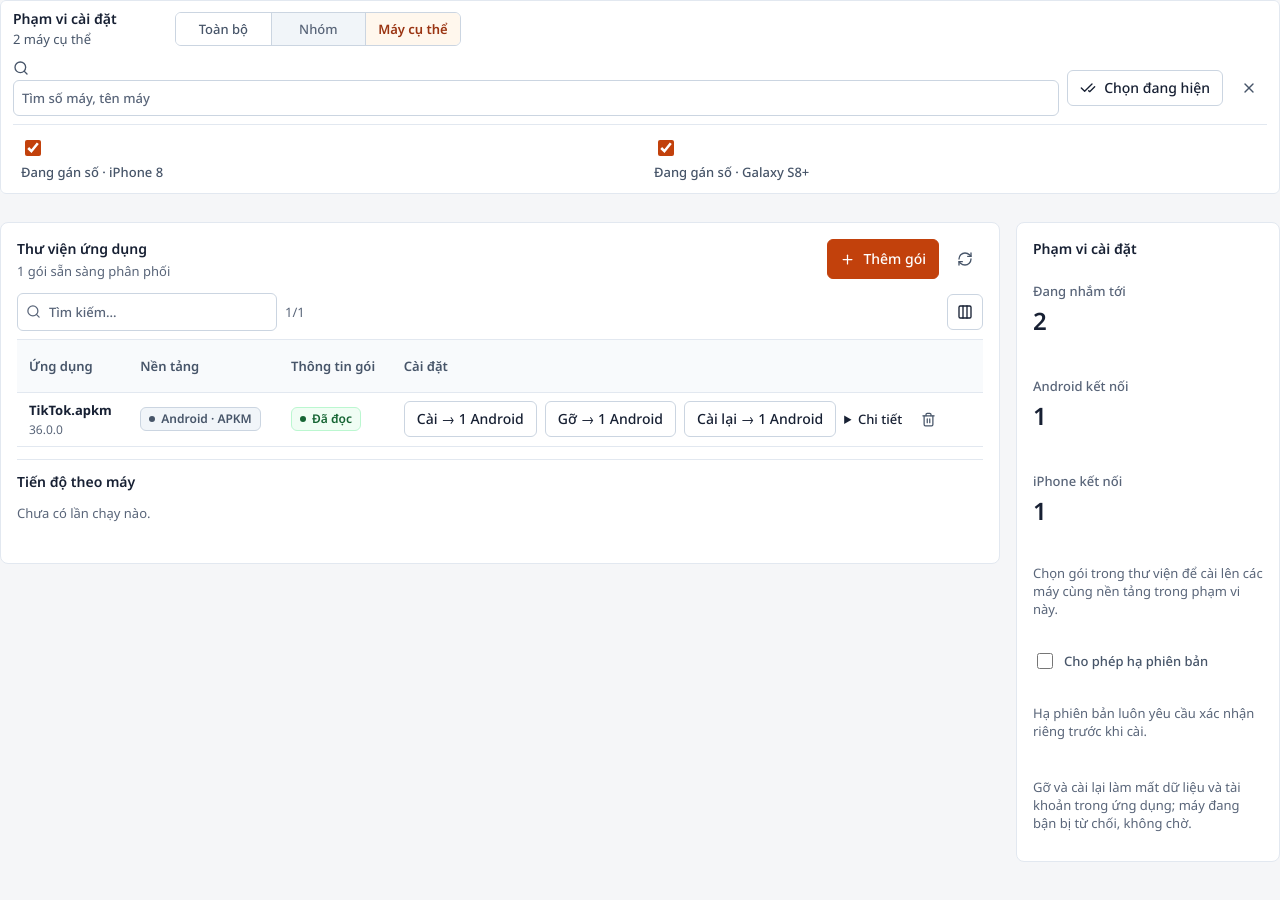
Test: AppsPage uninstall and reinstall › reinstalls only on Android phones for an Android package after its own confirm
Click the button "Cài lại → 1 Android".
click(760, 419)  # box left=684, top=401, right=836, bottom=437
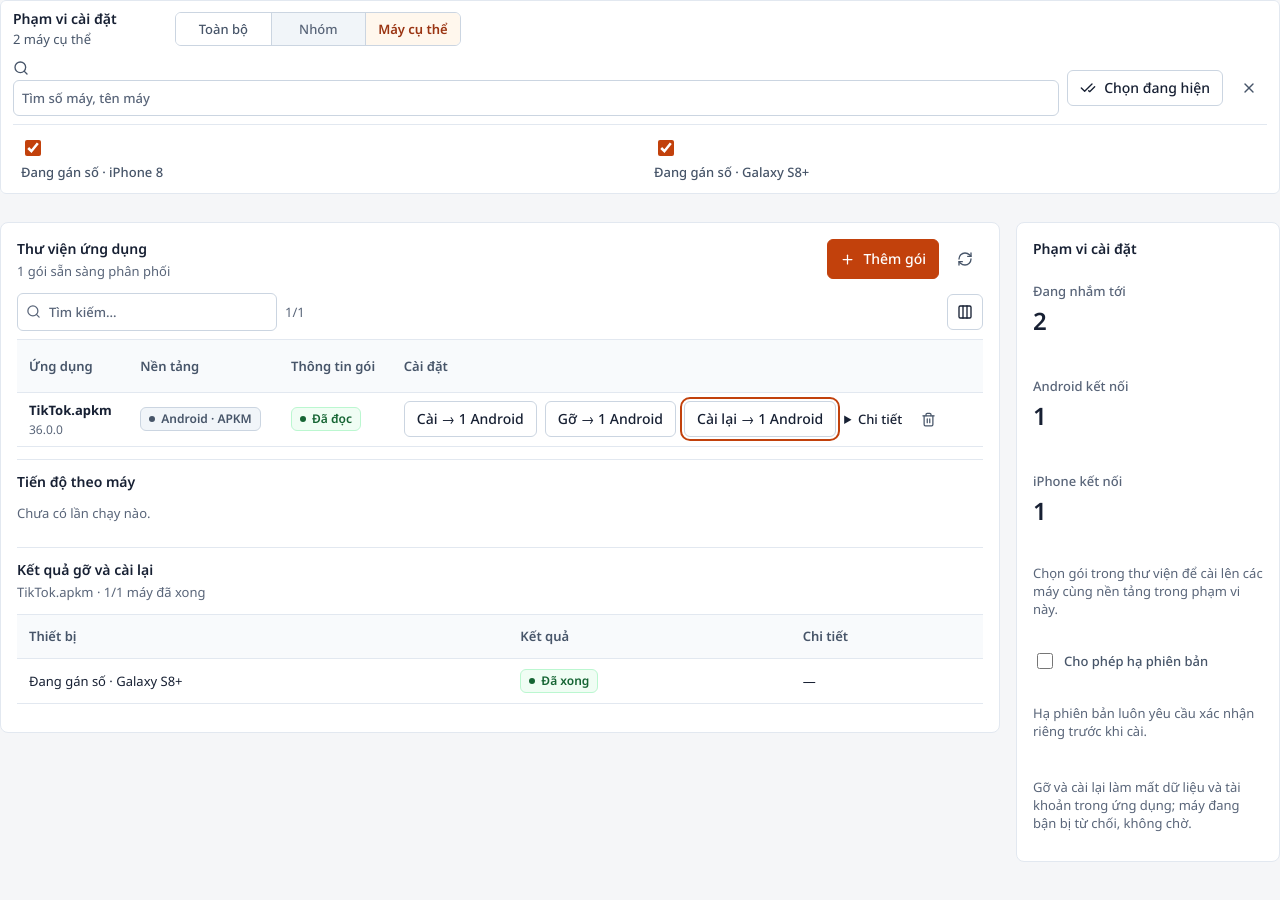
Check: the heading "Kết quả gỡ và cài lại" is shown, box left=17, top=560, right=153, bottom=579
